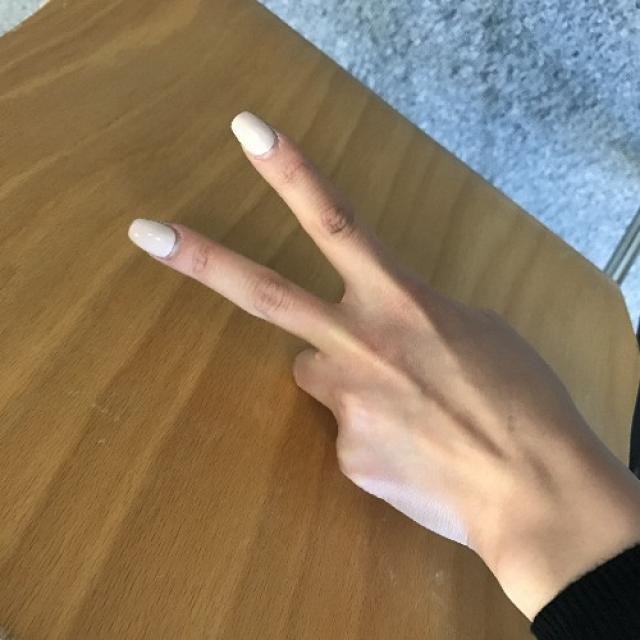scissors: (130, 108, 524, 538)
